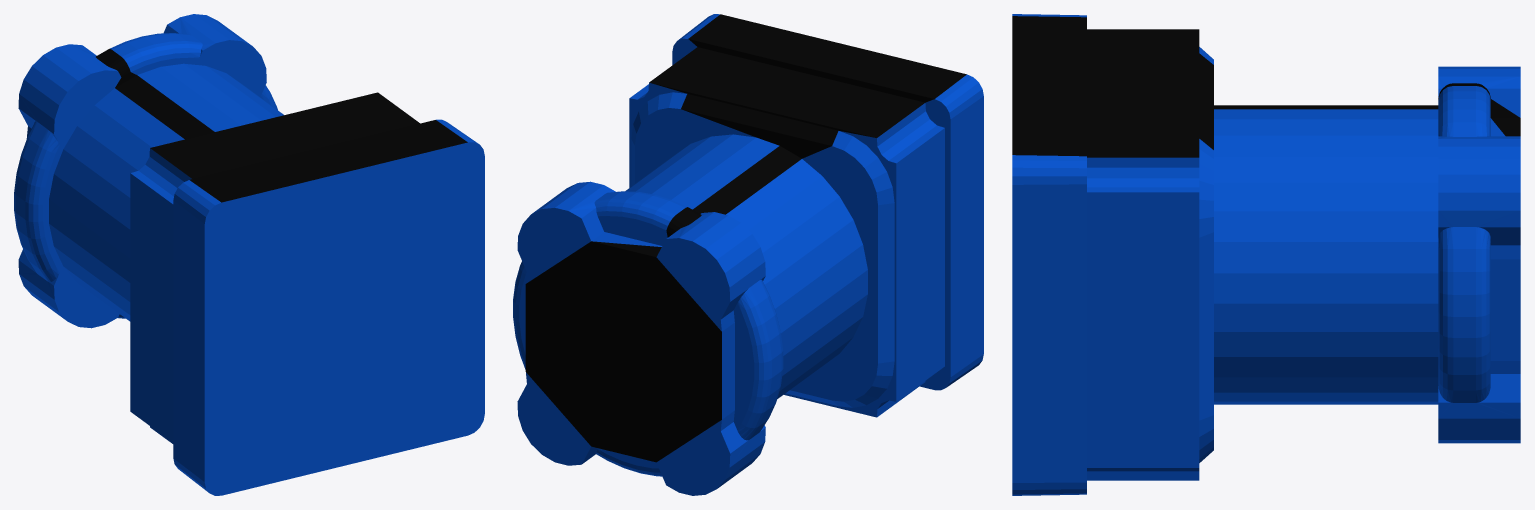
Rendered from blender.dae.
3 views of the same model, side by side, from view 1: azimuth 30°, elevation 25°; view 2: azimuth 150°, elevation 25°; view 3: azimuth 270°, elevation 25° (orthographic). The views are drawn at different scales.
Visible parts, largest first — view 1: laser_link; view 2: laser_link; view 3: laser_link.
Boxes of the visible parts, x1,y1,x2,y2 form: laser_link: (14, 14, 484, 495); laser_link: (513, 14, 983, 495); laser_link: (1012, 14, 1520, 495).
Bounding box in the file's own units: 0.05 × 0.068 × 0.05.
